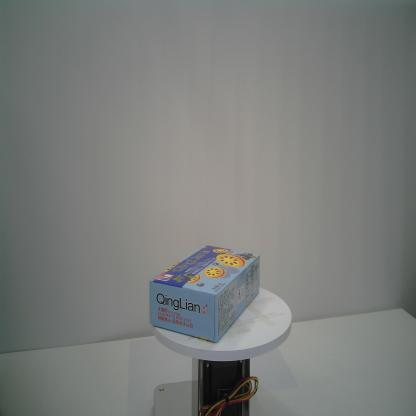Dessert: (149, 244, 261, 345)
